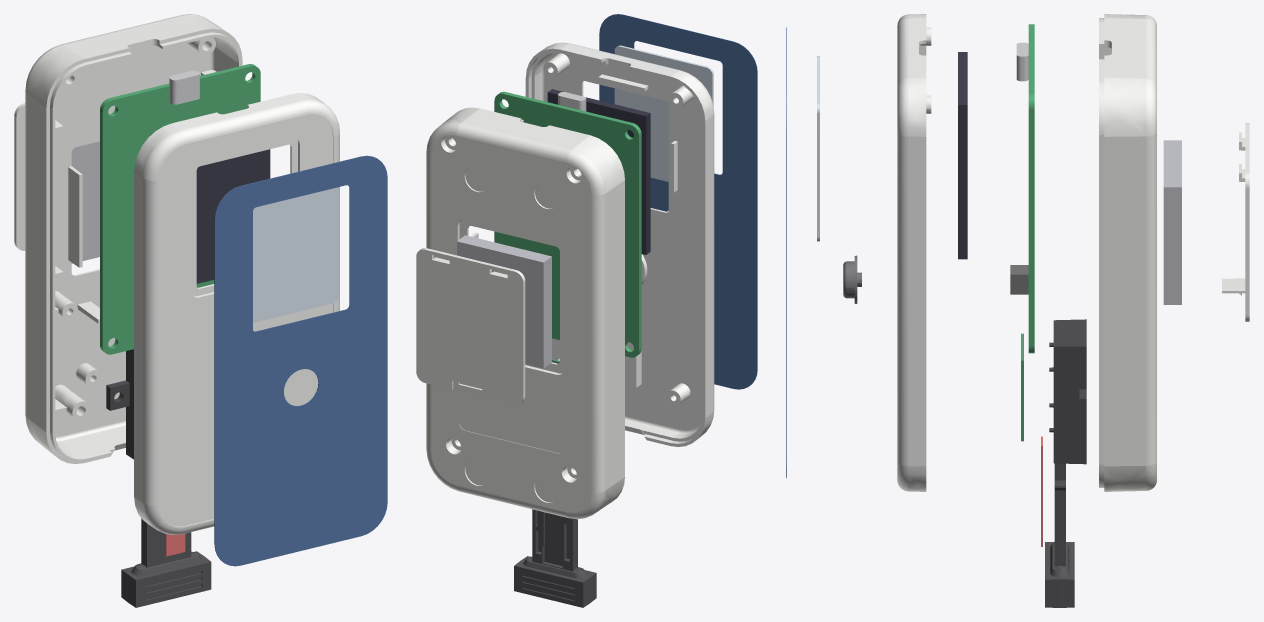
Rendered from .HemoSure_Exploded.step.glb.
3 renders of one model, left to right at view 1: azimuth 30°, elevation 25°; view 2: azimuth 150°, elevation 25°; view 3: azimuth 270°, elevation 25°, orthographic. The views are drawn at different scales.
Visible parts, largest first — view 1: o1.15, o1.12, o1.2, o1.8, o1.14, o1.5, o1.11, o1.3, o1.1, o1.4, o1.9; view 2: o1.2, o1.12, o1.15, o1.1, o1.8, o1.5, o1.3, o1.14, o1.11; view 3: o1.2, o1.12, o1.4, o1.3, o1.5, o1.8, o1.11, o1.1, o1.13.
Boxes of the visible parts, x1,y1,x2,y2 form: o1.15: (214, 155, 387, 566); o1.12: (134, 93, 339, 534); o1.2: (25, 14, 242, 463); o1.8: (100, 64, 260, 354); o1.14: (253, 187, 339, 322); o1.5: (121, 518, 211, 607); o1.11: (196, 149, 270, 283); o1.3: (71, 141, 99, 263); o1.1: (14, 103, 25, 250); o1.4: (106, 349, 133, 459); o1.9: (169, 70, 199, 104); o1.2: (426, 107, 624, 519); o1.12: (525, 42, 714, 446); o1.15: (599, 14, 757, 389); o1.1: (416, 248, 525, 404); o1.8: (494, 91, 641, 357); o1.5: (514, 509, 596, 607); o1.3: (457, 235, 551, 368); o1.14: (614, 45, 713, 181); o1.11: (547, 89, 650, 254); o1.2: (1099, 14, 1156, 491); o1.12: (897, 14, 931, 491); o1.4: (1049, 319, 1086, 464); o1.3: (1163, 140, 1181, 304); o1.5: (1045, 463, 1074, 607); o1.8: (1028, 24, 1034, 353); o1.11: (958, 52, 967, 259); o1.1: (1222, 123, 1249, 321); o1.13: (843, 255, 861, 303).
Bounding box in the file's own units: 0.062 × 0.161 × 0.125.
